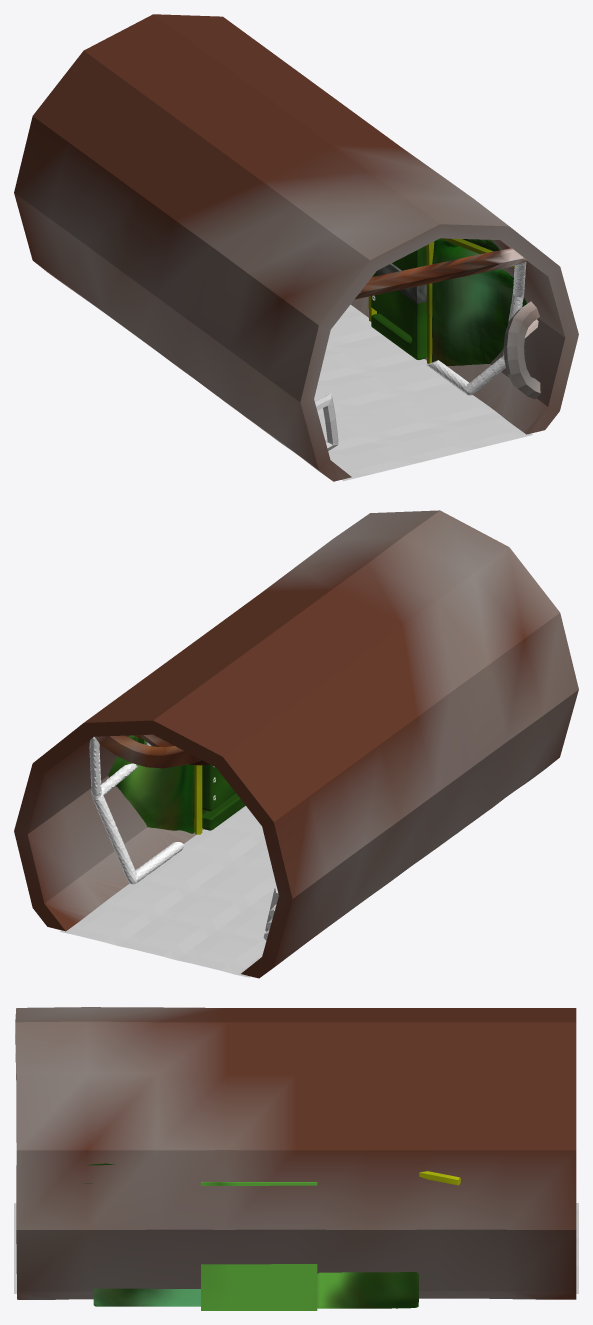
File: tunnel_secours.fbx
3 views of the same model, one above another, from view 1: azimuth 30°, elevation 25°; view 2: azimuth 150°, elevation 25°; view 3: azimuth 270°, elevation 25° (orthographic). The views are drawn at different scales.
Parts seen in each view (by area): view 1: Cylindre 5, Cylindre 4, Boîte 7, Boîte 9, Tube 12, Tube 6, Tube, Boîte 6, Tube 7; view 2: Cylindre 5, Cylindre 4, Boîte 8, Tube, Tube 3, Boîte 9, Boîte 6; view 3: Cylindre 5, Boîte 10, Boîte 8, Boîte 7, Cylindre 4.
Part boxes in pixels (x1,y1,x2,y2): Cylindre 5: [14, 14, 578, 481]; Cylindre 4: [314, 304, 532, 481]; Boîte 7: [432, 238, 526, 365]; Boîte 9: [371, 246, 426, 359]; Tube 12: [354, 248, 526, 299]; Tube 6: [503, 301, 540, 399]; Tube: [426, 262, 526, 395]; Boîte 6: [368, 241, 434, 363]; Tube 7: [315, 393, 338, 450]; Cylindre 5: [14, 510, 578, 978]; Cylindre 4: [59, 806, 276, 977]; Boîte 8: [108, 735, 194, 833]; Tube: [89, 736, 183, 884]; Tube 3: [95, 735, 200, 768]; Boîte 9: [202, 764, 245, 830]; Boîte 6: [194, 765, 202, 834]; Cylindre 5: [15, 1007, 576, 1299]; Boîte 10: [201, 1182, 317, 1310]; Boîte 8: [317, 1272, 418, 1308]; Boîte 7: [84, 1183, 200, 1306]; Cylindre 4: [14, 1203, 578, 1293].
Bounding box in the file's own units: 4.59 × 3.65 × 8.18.
